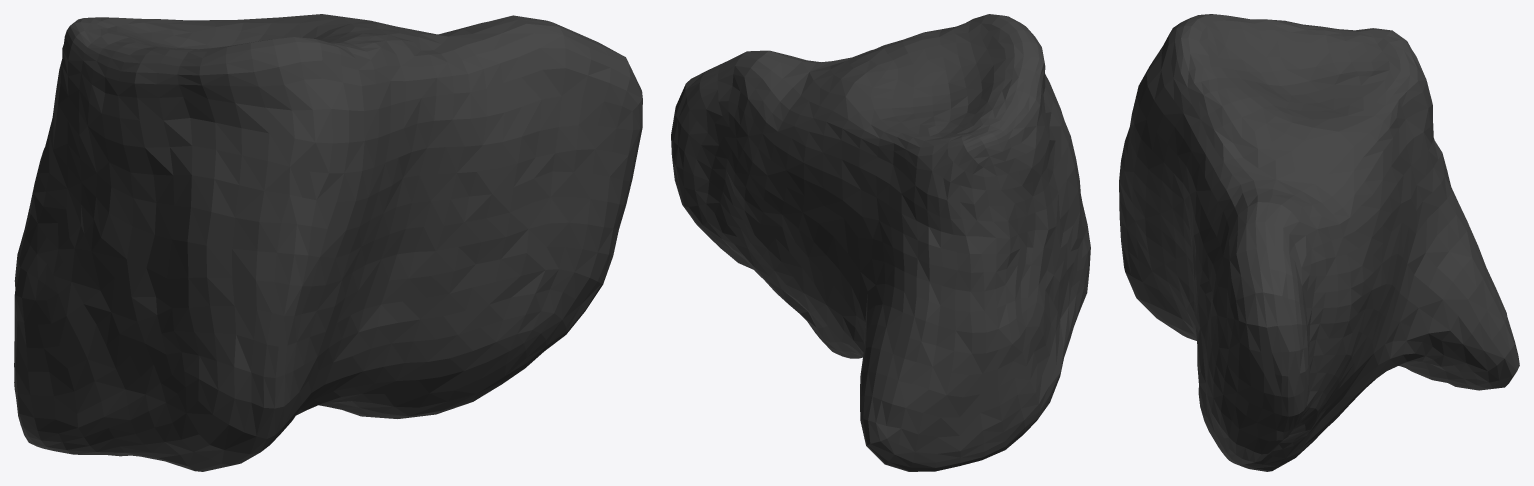
File: tarsal_III_L.glb
3 renders of one model, left to right at view 1: azimuth 30°, elevation 25°; view 2: azimuth 150°, elevation 25°; view 3: azimuth 270°, elevation 25°, orthographic. The views are drawn at different scales.
Parts seen in each view (by area): view 1: tarsal_III_L; view 2: tarsal_III_L; view 3: tarsal_III_L.
Boxes of the visible parts, x1,y1,x2,y2 form: tarsal_III_L: (14, 14, 642, 471); tarsal_III_L: (671, 14, 1090, 471); tarsal_III_L: (1119, 14, 1519, 471).
Size of the model in its own units: 0.0237 by 0.0198 by 0.0184.
1 material, 1 textured.
